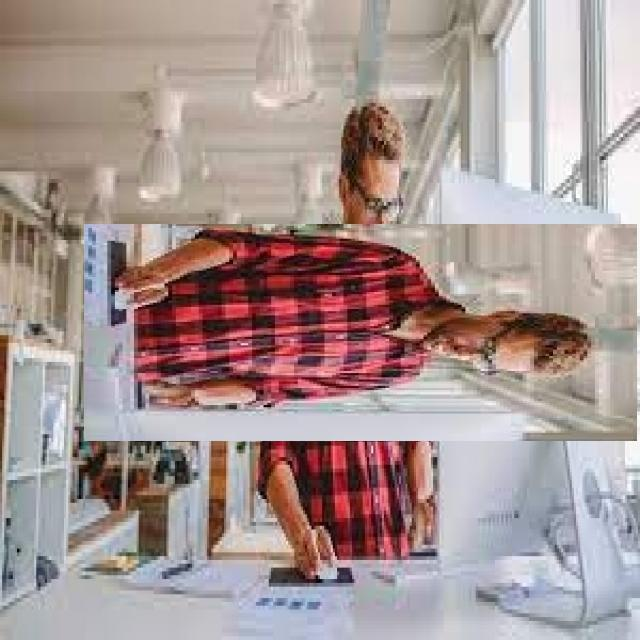NotFall: (75, 172, 631, 446)
